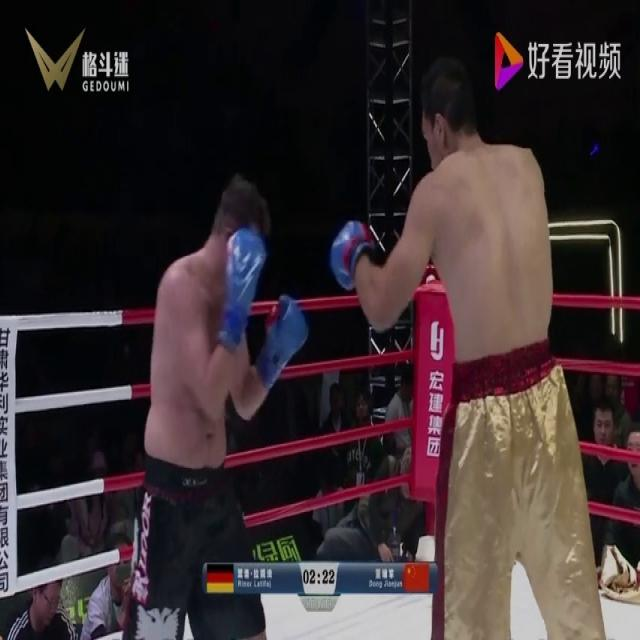fight: (326, 50, 605, 640), (121, 171, 312, 640)
